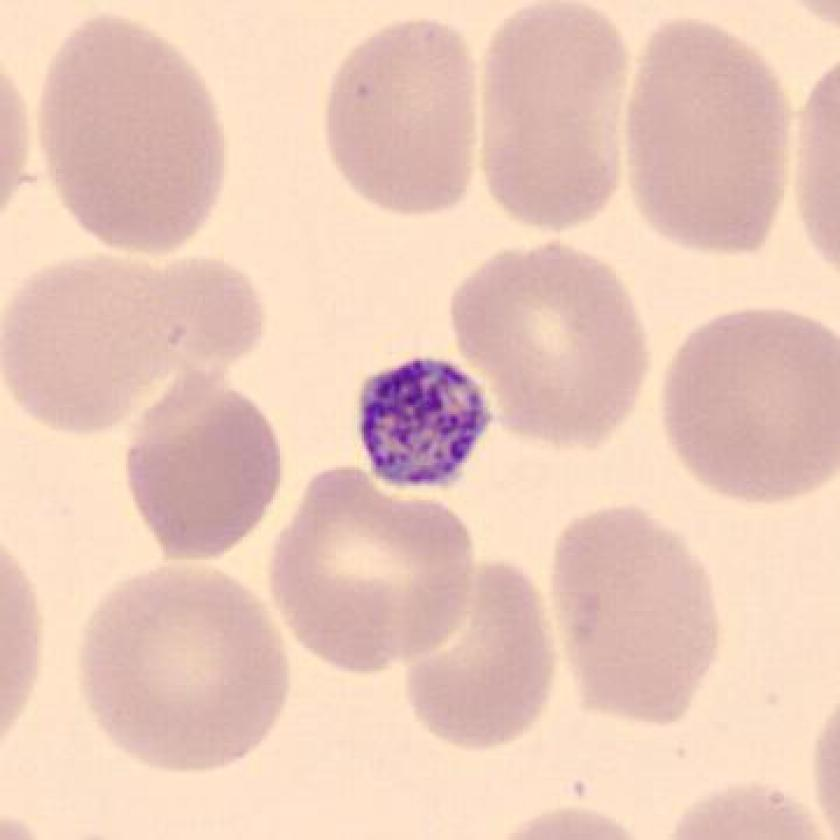platelets: (344, 346, 505, 494)
